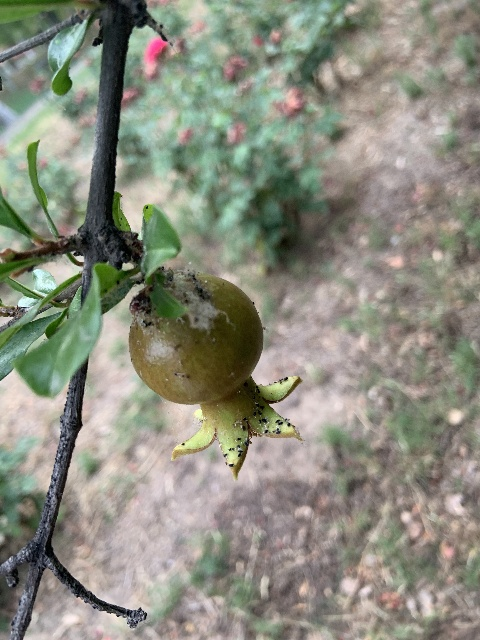early-fruit: (128, 274, 306, 483)
